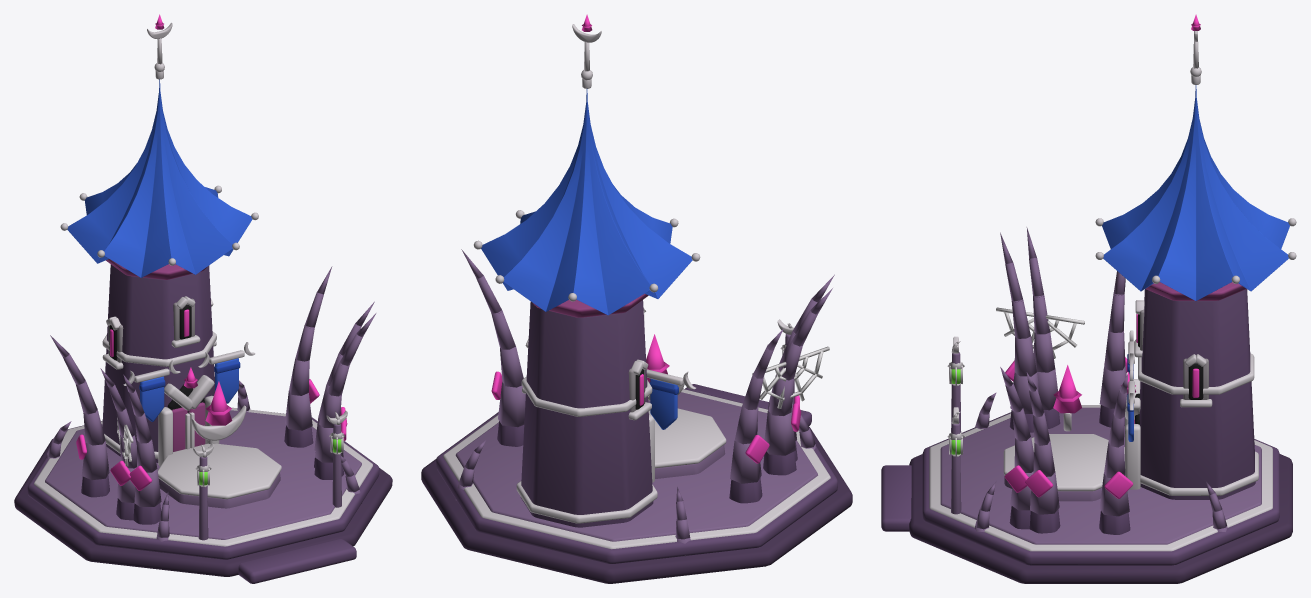
Rendered from Coven.glb.
3 views of the same model, side by side, from view 1: azimuth 30°, elevation 25°; view 2: azimuth 150°, elevation 25°; view 3: azimuth 270°, elevation 25° (orthographic). The views are drawn at different scales.
Parts seen in each view (by area): view 1: Coven; view 2: Coven; view 3: Coven.
Part boxes in pixels (x1,y1,x2,y2): Coven: [14, 14, 392, 583]; Coven: [421, 14, 852, 583]; Coven: [881, 14, 1296, 583].
Size of the model in its own units: 3.44 by 4.86 by 3.72.
